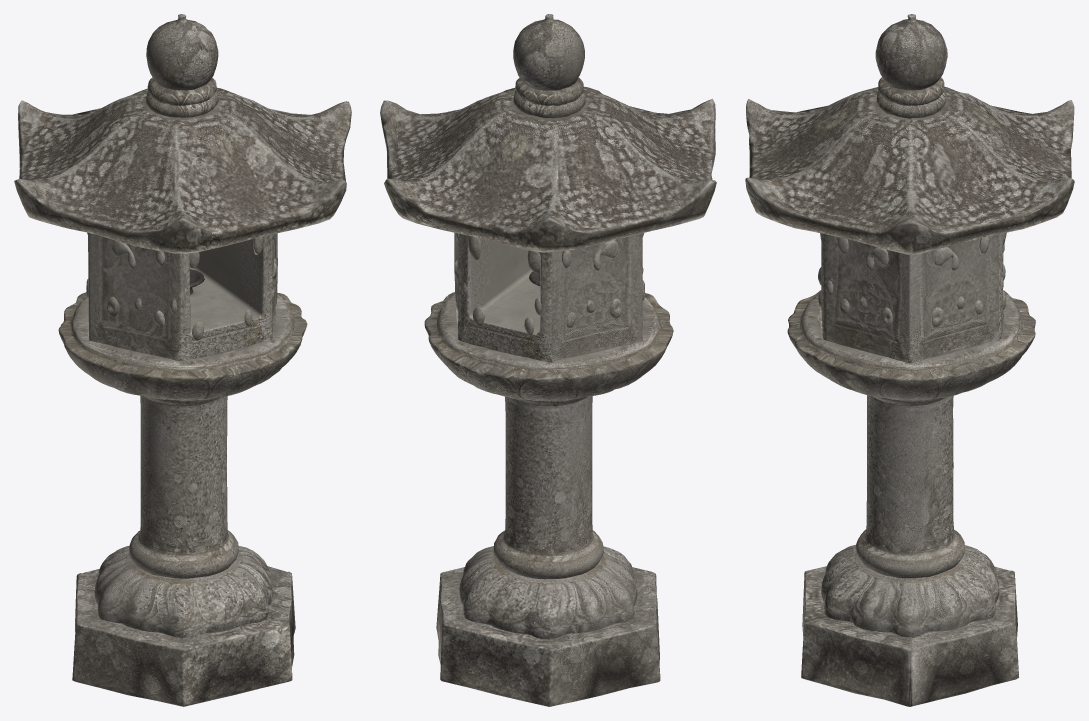
The model's file is kasuga_lantern.glb.
3 renders of one model, left to right at view 1: azimuth 30°, elevation 25°; view 2: azimuth 150°, elevation 25°; view 3: azimuth 270°, elevation 25°, orthographic.
Visible parts, largest first — view 1: Mesh_0; view 2: Mesh_0; view 3: Mesh_0.
Part boxes in pixels (<box>): Mesh_0: <box>14,14,351,706</box>; Mesh_0: <box>380,14,716,706</box>; Mesh_0: <box>745,14,1074,706</box>.
Bounding box in the file's own units: 0.8138 × 1.5 × 0.7025.
1 material, 1 textured.
